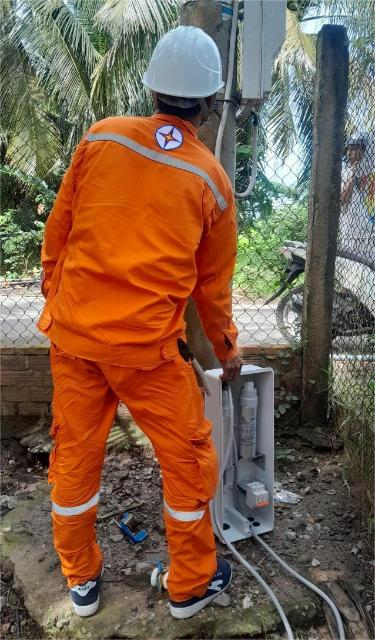helmet: (131, 16, 245, 108)
shoes: (145, 557, 248, 617), (51, 560, 123, 622)
